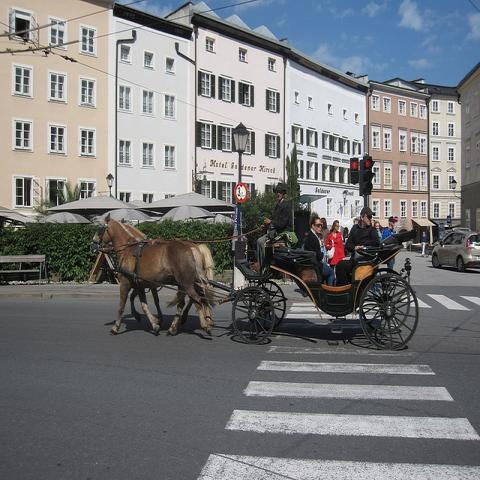car: (432, 229, 479, 273)
